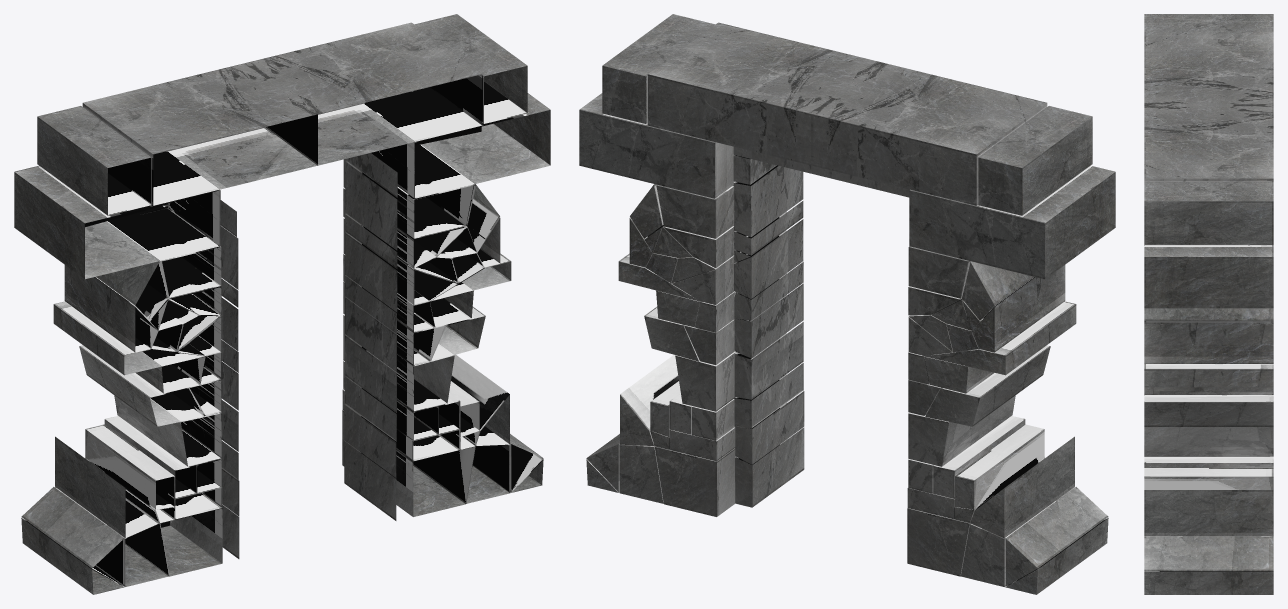
The model's file is Doorway.fbx.
3 renders of one model, left to right at view 1: azimuth 30°, elevation 25°; view 2: azimuth 150°, elevation 25°; view 3: azimuth 270°, elevation 25°, orthographic. The views are drawn at different scales.
Visible parts, largest first — view 1: Cube; view 2: Cube; view 3: Cube.
Part boxes in pixels (left/top/right/bottom): Cube: left=14, top=14, right=550, bottom=594; Cube: left=579, top=14, right=1115, bottom=594; Cube: left=1144, top=14, right=1273, bottom=594.
Size of the model in its own units: 6.78 by 5.93 by 1.78.
Materials: 1 (1 with a texture image).
